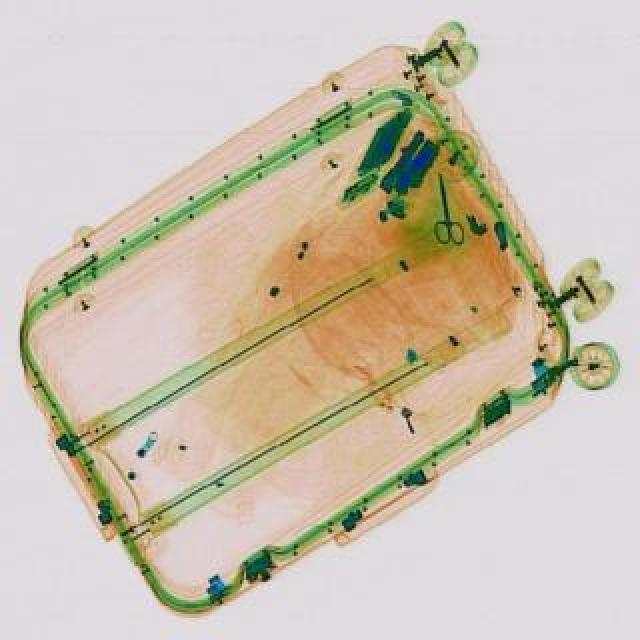pliers: (424, 164, 464, 244)
